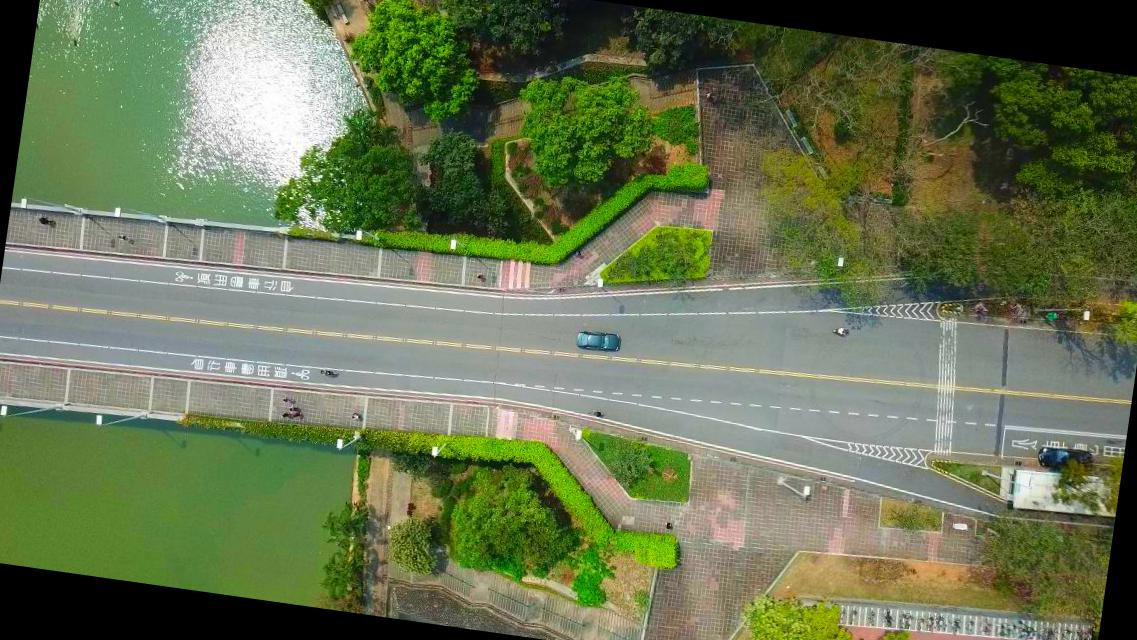vehicle: (1035, 444, 1094, 476), (576, 328, 622, 354)
